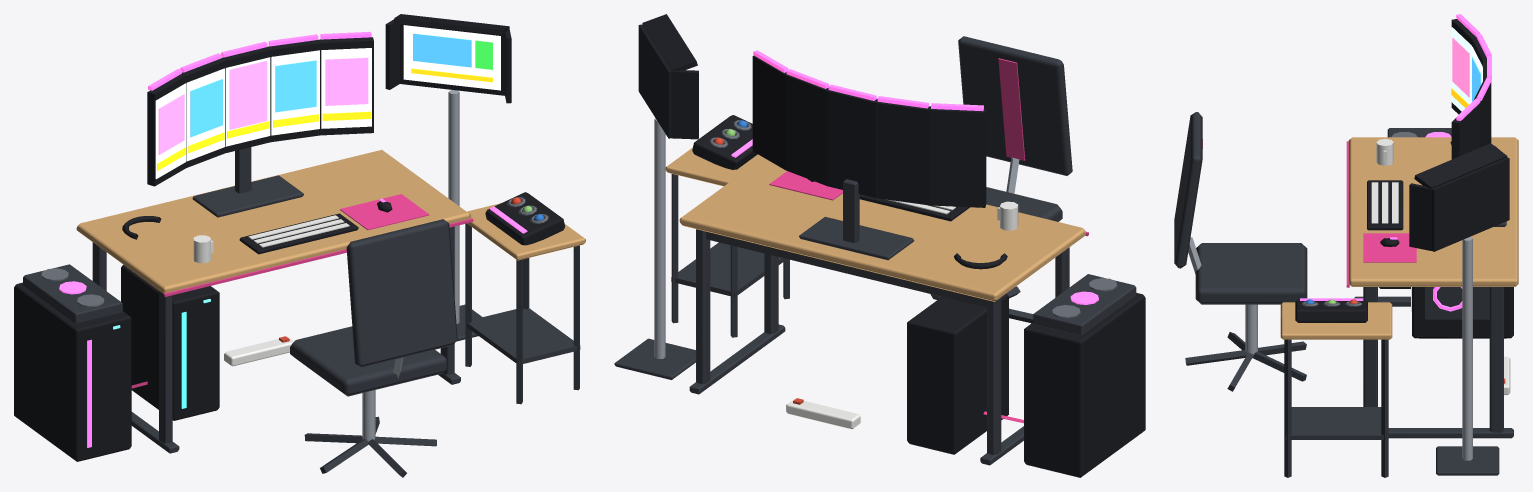
The model's file is station_processing_2.glb.
3 views of the same model, side by side, from view 1: azimuth 30°, elevation 25°; view 2: azimuth 150°, elevation 25°; view 3: azimuth 270°, elevation 25° (orthographic). The views are drawn at different scales.
Visible parts, largest first — view 1: station_processing_2; view 2: station_processing_2; view 3: station_processing_2.
Part boxes in pixels (x1=…): station_processing_2: x1=14, y1=14, x2=585, y2=477; station_processing_2: x1=614, y1=14, x2=1145, y2=477; station_processing_2: x1=1174, y1=14, x2=1518, y2=477.
Bounding box in the file's own units: 2.1 × 1.38 × 1.42.
